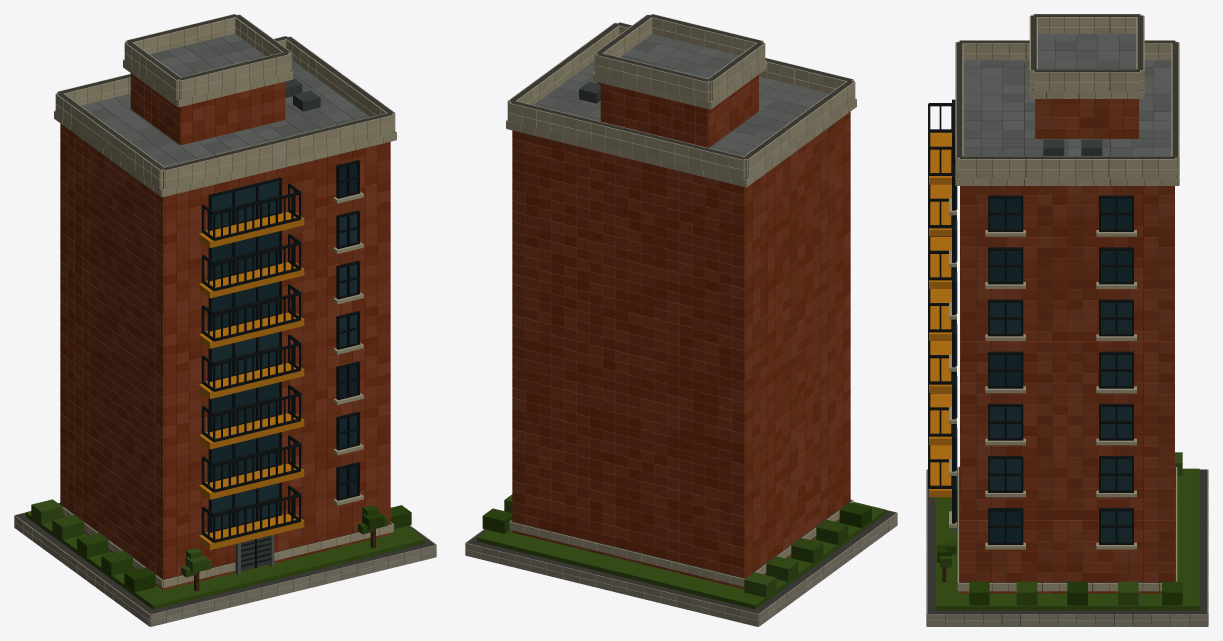
File: SM_Mapa_055.fbx
3 views of the same model, side by side, from view 1: azimuth 30°, elevation 25°; view 2: azimuth 150°, elevation 25°; view 3: azimuth 270°, elevation 25° (orthographic). The views are drawn at different scales.
Visible parts, largest first — view 1: SM_Mapa_055; view 2: SM_Mapa_055; view 3: SM_Mapa_055.
Boxes of the visible parts, <box> form: SM_Mapa_055: <box>14,14,436,626</box>; SM_Mapa_055: <box>465,14,897,626</box>; SM_Mapa_055: <box>926,14,1208,626</box>.
Bounding box in the file's own units: 14 × 11.52 × 22.83.
